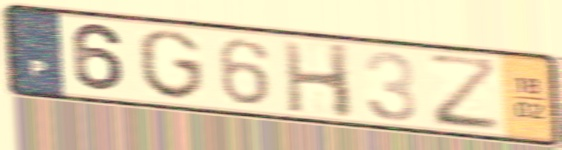3: (362, 48, 420, 123)
6: (216, 36, 275, 109), (70, 22, 128, 94)
G: (135, 27, 208, 104)
H: (279, 39, 357, 122)
Z: (423, 52, 506, 134)
